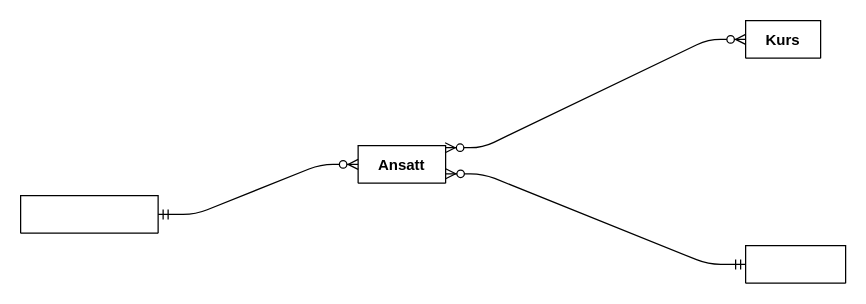
This 866x304 diagram has some shape labels left out. Here are the shapes that lost their labels. From the top down, the box of each, then its label:
(19, 194, 158, 233): Stillingstyper
(744, 244, 846, 283): Avdeling
